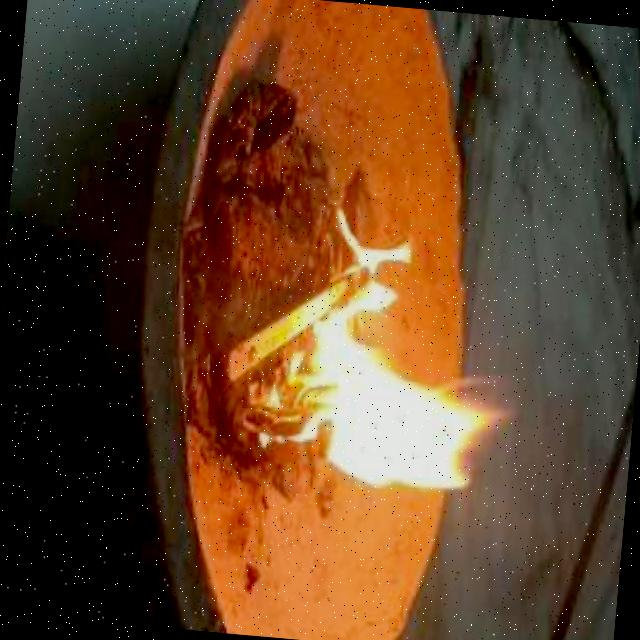fire: (263, 209, 517, 493)
